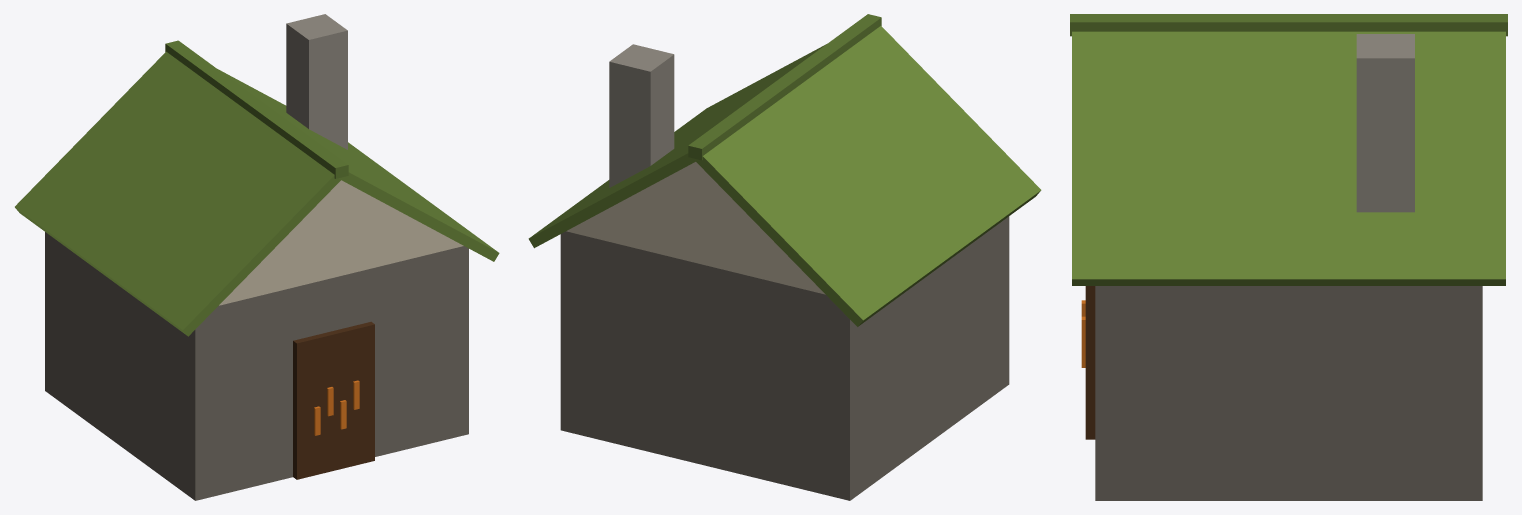
File: dwarf_house_b.glb
The picture shows the model from 3 angles, left to right: view 1: azimuth 30°, elevation 25°; view 2: azimuth 150°, elevation 25°; view 3: azimuth 270°, elevation 25°; orthographic projection. The views are drawn at different scales.
Visible parts, largest first — view 1: dwarf_house_b; view 2: dwarf_house_b; view 3: dwarf_house_b.
Boxes of the visible parts, x1,y1,x2,y2 form: dwarf_house_b: [15, 14, 499, 500]; dwarf_house_b: [528, 14, 1041, 500]; dwarf_house_b: [1070, 14, 1507, 500].
Size of the model in its own units: 2.43 by 2.45 by 2.26.
